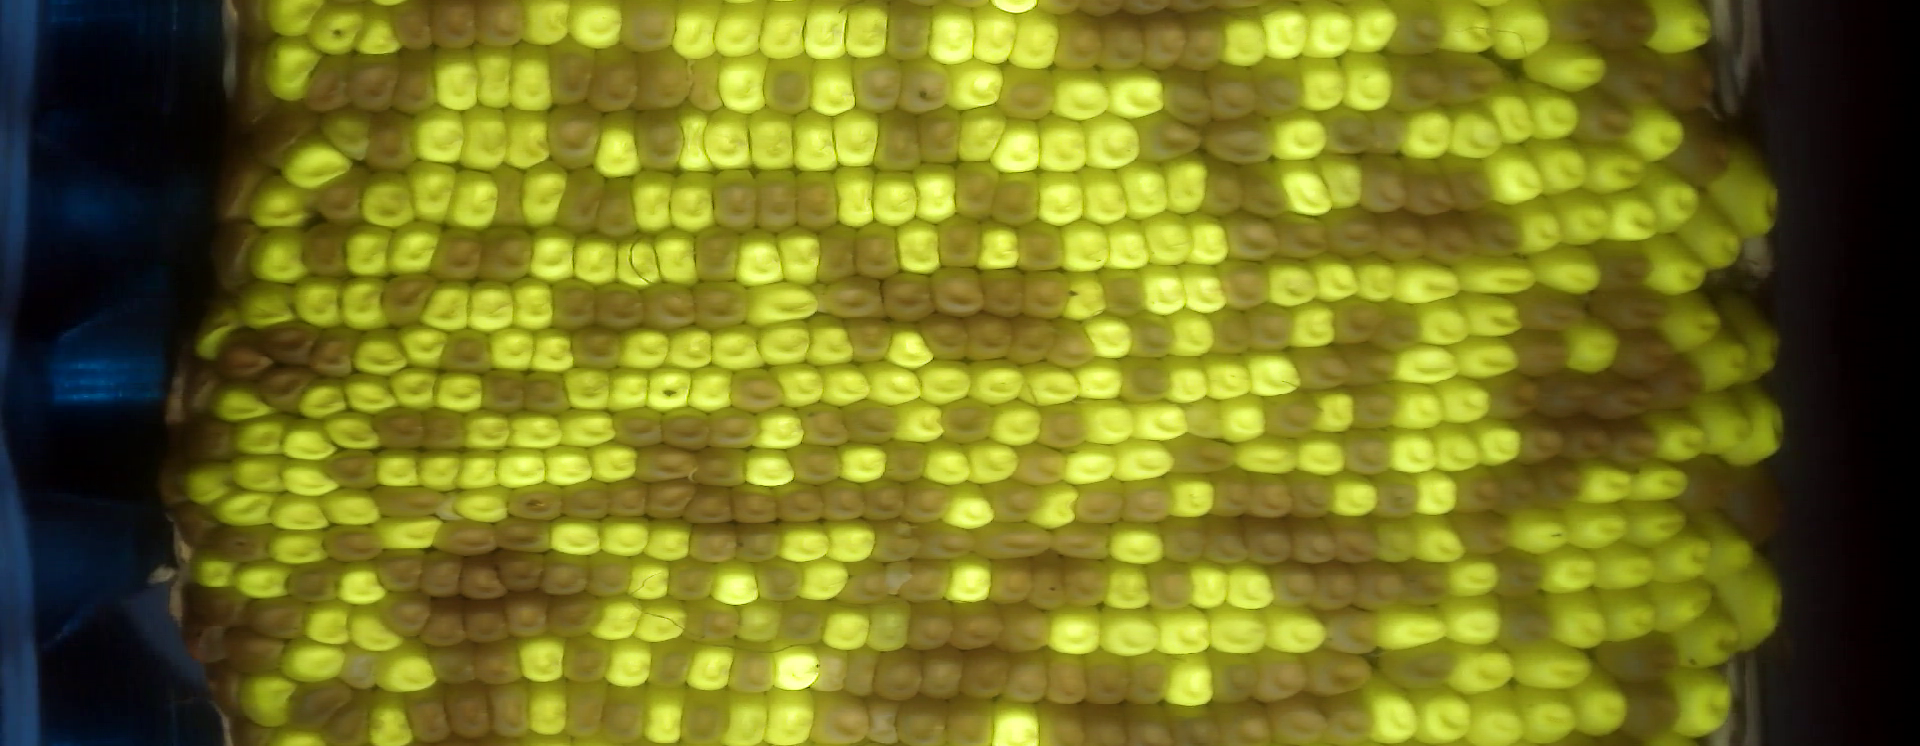fluorescent: (1718, 554, 1787, 653), (1717, 149, 1779, 244), (1635, 156, 1700, 234), (1668, 661, 1735, 735), (1692, 507, 1757, 581), (1733, 383, 1787, 472), (1545, 588, 1615, 649), (1524, 40, 1607, 91), (1641, 403, 1704, 467), (1692, 390, 1755, 454), (1515, 639, 1593, 691), (280, 134, 355, 187), (787, 103, 844, 174), (1642, 234, 1707, 295), (1567, 673, 1629, 737), (1622, 100, 1687, 160), (264, 37, 323, 100), (250, 176, 318, 230), (1598, 586, 1662, 643), (593, 111, 647, 178), (1367, 677, 1420, 744), (1338, 51, 1397, 111), (699, 108, 752, 174), (1262, 606, 1329, 659), (1502, 506, 1573, 555), (1457, 254, 1538, 296), (411, 107, 470, 165), (1676, 609, 1738, 665), (1207, 601, 1270, 657), (1103, 66, 1167, 120), (1133, 212, 1196, 266), (1647, 2, 1713, 54), (1029, 170, 1086, 229), (1667, 296, 1724, 355), (1529, 140, 1589, 196), (251, 230, 312, 285), (733, 228, 787, 290), (1738, 309, 1784, 381), (1491, 2, 1550, 59), (715, 54, 770, 114), (1447, 104, 1502, 164), (1487, 151, 1547, 206), (1373, 608, 1450, 650), (1052, 69, 1113, 122), (460, 104, 509, 171), (747, 109, 800, 171), (1533, 245, 1602, 293), (1455, 293, 1523, 341), (408, 160, 458, 225), (358, 171, 415, 228), (1417, 690, 1474, 746), (1483, 85, 1536, 146), (1697, 330, 1750, 391), (431, 44, 479, 111), (924, 2, 976, 65), (376, 638, 438, 690), (1594, 540, 1657, 592), (278, 637, 347, 684), (1040, 111, 1089, 176), (1084, 113, 1140, 169), (291, 272, 347, 330), (1471, 413, 1524, 472), (240, 675, 300, 728), (508, 44, 553, 113), (309, 2, 365, 58), (1582, 145, 1647, 192), (666, 174, 718, 234), (913, 160, 960, 227), (857, 359, 923, 405), (1622, 501, 1689, 548), (830, 165, 878, 229), (1451, 649, 1515, 697), (1303, 2, 1358, 58), (1523, 85, 1580, 138), (1412, 296, 1468, 350), (1566, 318, 1622, 372), (1518, 692, 1576, 745), (749, 281, 818, 325), (1455, 334, 1523, 379), (1389, 377, 1447, 429), (800, 4, 850, 64), (1010, 11, 1060, 71), (446, 170, 496, 230), (1651, 532, 1712, 581), (1392, 344, 1462, 387), (951, 107, 1007, 160), (386, 222, 440, 277), (500, 409, 567, 453), (1400, 108, 1456, 160), (891, 218, 942, 277), (1393, 260, 1460, 304), (1556, 192, 1610, 246), (1434, 423, 1488, 477), (833, 109, 883, 167), (339, 277, 389, 334), (1562, 507, 1630, 550), (965, 361, 1029, 407), (507, 108, 556, 167), (529, 227, 578, 285), (1471, 696, 1529, 745), (560, 369, 620, 416), (778, 224, 824, 285), (1575, 461, 1636, 507), (992, 120, 1044, 174), (1273, 113, 1329, 164), (520, 162, 563, 228), (1118, 165, 1168, 222), (1156, 608, 1213, 657), (240, 281, 299, 328), (351, 330, 410, 377), (842, 2, 889, 62), (975, 6, 1021, 66), (1018, 363, 1082, 405), (1604, 187, 1654, 243), (1220, 11, 1269, 67), (811, 61, 860, 118), (947, 64, 1004, 111), (1320, 149, 1367, 208), (572, 228, 618, 287), (1300, 61, 1352, 114), (1163, 655, 1213, 709), (227, 560, 291, 601), (1441, 4, 1496, 53), (1060, 219, 1109, 274), (324, 405, 386, 450), (1389, 428, 1444, 477), (1540, 548, 1597, 595), (613, 323, 671, 370), (1247, 353, 1304, 399), (230, 450, 288, 496), (1130, 397, 1188, 443), (1166, 154, 1209, 217), (677, 107, 715, 176), (876, 169, 920, 229), (1284, 165, 1333, 219), (709, 323, 763, 372), (760, 7, 808, 62), (613, 235, 661, 290), (1447, 601, 1502, 649), (762, 693, 817, 741), (650, 229, 697, 285), (818, 364, 876, 409), (1652, 583, 1709, 628), (715, 9, 767, 59), (1446, 549, 1498, 599), (1513, 201, 1562, 254), (887, 320, 936, 372), (773, 363, 825, 412), (1081, 397, 1134, 446), (1311, 386, 1360, 439), (671, 4, 719, 58), (1262, 6, 1310, 60), (1082, 171, 1130, 225), (760, 318, 814, 366), (644, 365, 698, 413), (1049, 608, 1103, 655), (1116, 439, 1176, 481), (386, 365, 441, 412), (212, 387, 282, 424), (345, 224, 391, 281), (808, 312, 853, 369), (344, 371, 400, 416), (633, 169, 672, 234), (493, 443, 551, 488), (517, 635, 567, 685), (421, 281, 473, 330), (1287, 303, 1338, 352), (921, 439, 972, 488), (1347, 6, 1400, 54), (1139, 266, 1191, 314), (467, 282, 514, 334), (1439, 376, 1491, 424), (1414, 518, 1467, 566), (349, 608, 402, 655), (918, 359, 973, 404), (891, 398, 947, 443), (940, 486, 996, 532), (1102, 612, 1158, 657), (540, 445, 598, 488), (662, 323, 714, 371), (1030, 481, 1081, 529), (1183, 213, 1229, 266), (1266, 255, 1313, 307), (299, 601, 351, 648), (512, 274, 553, 333), (1236, 439, 1299, 477), (236, 416, 298, 456), (529, 323, 577, 374), (773, 646, 820, 696), (1202, 355, 1255, 401), (967, 441, 1020, 486), (478, 47, 514, 111), (778, 522, 833, 565), (557, 409, 617, 448), (462, 409, 518, 451), (1103, 219, 1152, 267), (489, 323, 535, 374), (1229, 562, 1276, 612), (975, 220, 1020, 272), (1310, 251, 1356, 303), (1167, 360, 1218, 405), (336, 563, 393, 604), (520, 2, 573, 47), (1068, 443, 1120, 488), (687, 365, 735, 413), (644, 517, 692, 565), (992, 402, 1041, 448), (549, 517, 605, 557), (576, 1, 621, 51), (216, 492, 279, 528), (1076, 360, 1129, 403), (834, 443, 888, 485), (324, 488, 380, 528), (380, 517, 444, 551), (1063, 272, 1109, 320), (1168, 311, 1215, 359), (367, 699, 415, 746), (400, 323, 446, 372), (184, 461, 233, 506), (827, 521, 877, 565), (710, 563, 760, 608), (1356, 251, 1398, 303), (433, 370, 486, 412), (797, 560, 850, 601), (1414, 472, 1461, 518), (1103, 565, 1150, 611), (640, 599, 688, 644), (271, 529, 329, 566), (593, 597, 642, 641), (687, 644, 731, 693), (1091, 312, 1134, 363), (373, 446, 425, 488), (742, 450, 798, 488), (1631, 465, 1687, 503), (280, 461, 340, 496), (596, 518, 650, 557), (358, 9, 403, 55), (602, 367, 650, 412), (724, 696, 768, 744), (296, 380, 351, 418), (1109, 527, 1164, 565), (1171, 475, 1217, 519), (527, 691, 571, 737), (1333, 472, 1376, 519), (609, 639, 651, 687), (284, 423, 338, 461), (951, 555, 993, 604), (268, 499, 329, 532), (267, 2, 324, 37), (993, 703, 1038, 746), (591, 441, 639, 481), (414, 453, 463, 492), (193, 551, 242, 590), (1297, 439, 1351, 474), (824, 609, 869, 650), (1191, 563, 1233, 609), (757, 409, 803, 450), (1228, 394, 1266, 443), (647, 690, 681, 744), (457, 450, 502, 490), (456, 492, 512, 524), (1187, 267, 1224, 312), (628, 557, 670, 598)
nonfluorescent: (1727, 464, 1791, 549), (1597, 628, 1681, 684), (1673, 118, 1731, 187), (1382, 53, 1451, 111), (1397, 153, 1457, 218), (588, 43, 640, 116), (1600, 47, 1662, 109), (1581, 371, 1654, 423), (1136, 109, 1204, 164), (1209, 113, 1277, 167), (1449, 47, 1510, 107), (631, 51, 696, 108), (544, 107, 600, 171), (284, 676, 358, 725), (1591, 287, 1668, 333), (1518, 283, 1588, 334), (1573, 83, 1630, 146), (629, 108, 684, 171), (1591, 236, 1654, 292), (808, 688, 872, 744), (476, 225, 534, 285), (749, 167, 802, 232), (709, 167, 762, 232), (204, 223, 257, 288), (250, 108, 307, 167), (217, 156, 263, 228), (556, 167, 605, 235), (549, 37, 596, 107), (987, 170, 1044, 228), (1382, 643, 1453, 690), (553, 676, 607, 737), (999, 65, 1056, 122), (362, 113, 418, 171), (1660, 49, 1712, 111), (873, 109, 924, 171), (1166, 434, 1240, 477), (1161, 72, 1218, 127), (1625, 682, 1682, 737), (1678, 454, 1731, 513), (852, 51, 902, 114), (792, 170, 842, 233), (392, 53, 441, 116), (378, 271, 433, 327), (1356, 154, 1408, 213), (996, 603, 1054, 655), (1249, 58, 1300, 118), (762, 58, 813, 118), (203, 523, 279, 563), (1097, 11, 1146, 73), (1613, 332, 1675, 381), (1505, 330, 1572, 375), (940, 396, 998, 448), (823, 276, 891, 320), (447, 676, 491, 745), (677, 687, 729, 746), (1391, 2, 1446, 56), (1325, 103, 1378, 159), (1182, 6, 1224, 75), (349, 53, 398, 113), (1224, 211, 1278, 265), (999, 649, 1052, 704), (1489, 546, 1545, 598), (1040, 648, 1091, 704), (1446, 156, 1496, 213), (917, 103, 962, 167), (1209, 65, 1258, 124), (370, 405, 429, 454), (1207, 643, 1256, 702), (855, 223, 902, 283), (171, 420, 236, 464), (1307, 649, 1371, 693), (242, 595, 307, 639), (1240, 167, 1293, 220), (931, 266, 984, 318), (309, 325, 362, 377), (1499, 595, 1551, 649), (883, 271, 938, 322), (918, 646, 970, 701), (1536, 371, 1598, 416), (621, 2, 677, 53), (1049, 316, 1100, 372), (1266, 391, 1324, 440), (955, 160, 1003, 219), (489, 164, 530, 232), (983, 522, 1051, 563), (680, 599, 740, 646), (1054, 12, 1100, 73), (587, 281, 640, 332), (1654, 360, 1708, 412), (1060, 557, 1112, 611), (1469, 205, 1520, 260), (887, 4, 931, 66), (549, 276, 596, 333), (257, 318, 315, 366), (1270, 698, 1329, 745), (1146, 12, 1191, 72), (182, 579, 242, 625), (373, 592, 433, 637), (405, 684, 451, 744), (898, 60, 950, 111), (1326, 207, 1379, 258), (433, 228, 484, 282), (300, 227, 350, 281), (645, 281, 696, 334), (905, 599, 955, 653), (961, 646, 1010, 701), (545, 592, 600, 641), (602, 685, 647, 746), (658, 408, 715, 454), (489, 681, 531, 744), (599, 174, 639, 240), (435, 328, 493, 374), (1245, 470, 1297, 522), (1220, 260, 1270, 312), (776, 599, 829, 649), (1324, 606, 1378, 655), (1117, 355, 1172, 403), (800, 403, 855, 451), (371, 486, 444, 522), (307, 51, 347, 118), (696, 227, 740, 285), (430, 1, 481, 51), (1487, 372, 1538, 423), (1124, 477, 1176, 527), (1260, 650, 1310, 702), (900, 556, 950, 608), (1324, 691, 1373, 744), (647, 639, 696, 692), (694, 283, 749, 330), (629, 445, 699, 481), (1076, 699, 1131, 746), (231, 628, 287, 675), (217, 332, 273, 377), (786, 441, 842, 486), (816, 223, 856, 285), (1038, 403, 1089, 453), (375, 546, 425, 597), (1340, 428, 1391, 477), (1073, 483, 1131, 526), (315, 171, 362, 224), (1123, 650, 1171, 703), (318, 451, 378, 492), (936, 217, 981, 272), (844, 399, 899, 445), (1430, 214, 1476, 269), (894, 699, 949, 745), (1207, 465, 1256, 516), (1247, 522, 1297, 571), (1292, 472, 1340, 523), (1082, 648, 1129, 701), (1296, 344, 1349, 390), (729, 367, 782, 413), (1215, 701, 1269, 746), (182, 620, 236, 665), (544, 545, 587, 601), (1127, 307, 1176, 356), (954, 601, 1003, 650), (876, 650, 924, 699), (1204, 519, 1251, 570), (520, 370, 572, 416), (730, 643, 776, 695), (846, 312, 891, 365), (1517, 416, 1562, 469), (471, 641, 524, 686), (684, 54, 725, 113), (460, 603, 516, 646), (422, 643, 478, 686), (1202, 306, 1250, 355), (478, 367, 525, 416), (422, 405, 470, 454), (1378, 214, 1427, 262), (1331, 513, 1379, 562), (561, 632, 610, 680), (256, 369, 307, 414), (418, 548, 463, 599), (697, 446, 749, 490), (1007, 317, 1054, 365), (502, 593, 550, 641), (1457, 510, 1504, 559), (1149, 565, 1198, 611), (320, 526, 383, 561), (572, 330, 624, 372), (1456, 465, 1499, 518), (496, 516, 553, 555), (924, 521, 978, 562), (1022, 554, 1060, 612), (1166, 706, 1221, 746), (873, 518, 928, 559), (1402, 560, 1449, 608), (1294, 517, 1340, 566), (947, 701, 996, 746), (612, 407, 662, 451), (1035, 702, 1085, 746), (557, 483, 613, 522), (1029, 271, 1071, 322), (1054, 523, 1114, 560), (1341, 296, 1381, 350), (1281, 217, 1329, 262), (380, 488, 444, 521), (710, 409, 762, 451), (981, 266, 1021, 318), (1251, 304, 1292, 356), (688, 485, 741, 526), (509, 481, 563, 521), (479, 2, 524, 49), (1310, 561, 1356, 608), (458, 556, 504, 601), (671, 557, 718, 603), (1021, 223, 1065, 271), (965, 317, 1013, 361), (647, 477, 694, 521), (756, 560, 803, 604), (422, 604, 470, 648), (1104, 267, 1145, 318), (589, 546, 629, 598), (841, 559, 887, 604), (391, 2, 433, 50), (1123, 703, 1171, 746), (1378, 301, 1419, 350), (1536, 461, 1577, 510), (1204, 167, 1244, 217), (1561, 428, 1613, 467), (988, 478, 1030, 526), (778, 483, 827, 523), (496, 556, 545, 597), (336, 688, 371, 744), (924, 317, 967, 363), (1356, 385, 1398, 430), (1160, 517, 1202, 562), (1376, 472, 1418, 518), (288, 562, 340, 599), (609, 477, 649, 524), (988, 556, 1029, 604), (442, 523, 500, 556), (1344, 345, 1389, 388), (883, 439, 926, 483), (1273, 563, 1318, 606), (1018, 450, 1063, 491), (1357, 563, 1398, 609), (736, 483, 781, 524), (339, 644, 381, 690), (1498, 459, 1531, 516), (841, 644, 878, 693), (867, 477, 909, 518), (1610, 423, 1651, 465), (740, 524, 784, 563), (1370, 107, 1404, 156), (691, 529, 740, 563), (905, 480, 949, 518), (824, 481, 866, 521), (817, 646, 849, 695), (868, 698, 900, 744)
